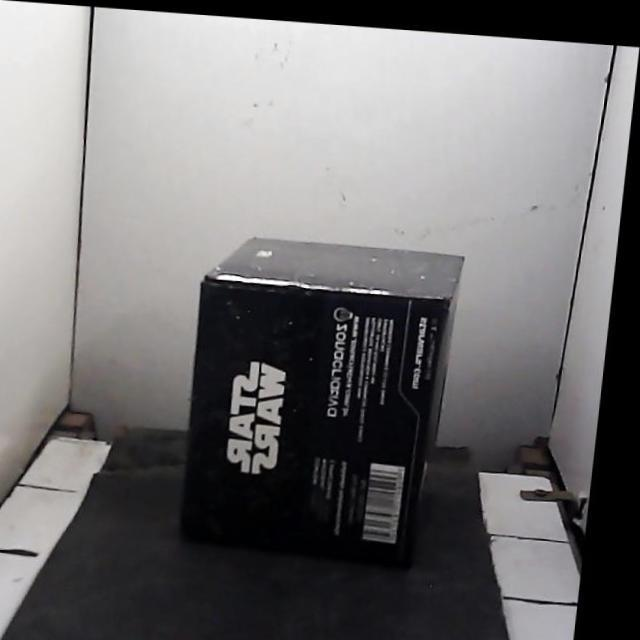papel: (181, 237, 463, 563)
